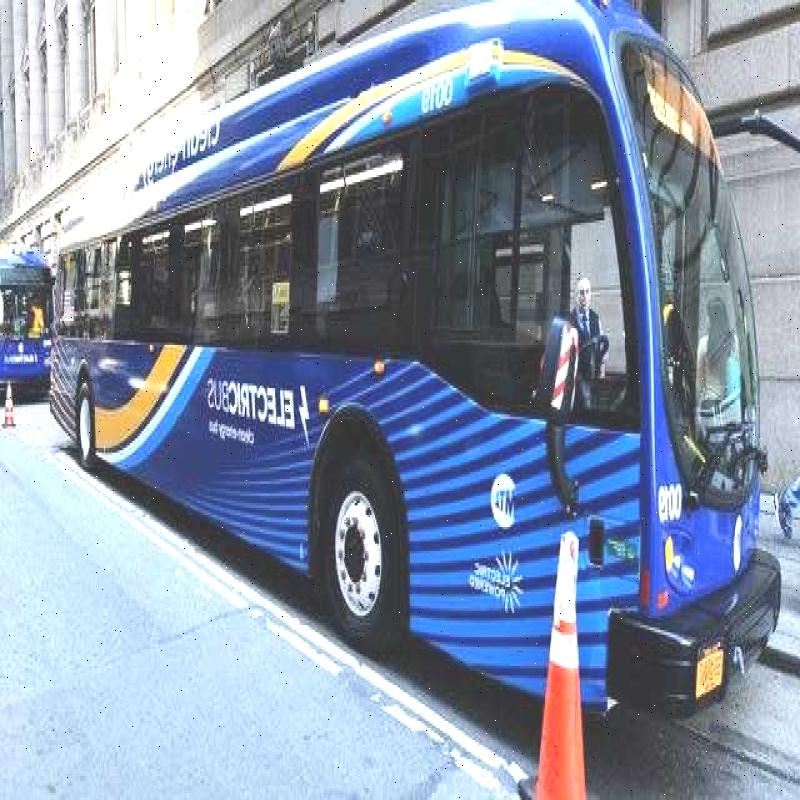bus: (26, 1, 776, 694)
